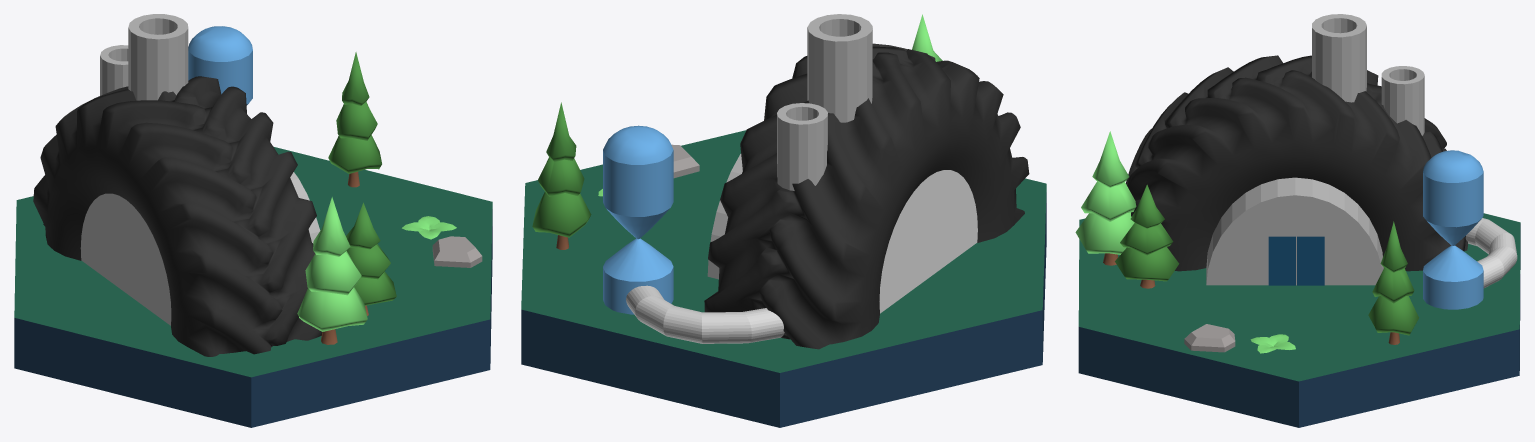
The model's file is Macro - transportation factory lv1 wm 1.fbx.
3 views of the same model, side by side, from view 1: azimuth 30°, elevation 25°; view 2: azimuth 150°, elevation 25°; view 3: azimuth 270°, elevation 25° (orthographic). The views are drawn at different scales.
Parts seen in each view (by area): view 1: Cylinder.154, Cylinder.003, Cylinder.006, Tree_Spruce_tiny_01.002, Cylinder.009, Tree_Spruce_tiny_01.004, Cylinder.004, Tree_Spruce_tiny_01.001, Rock Type4 04 mesh.001, Cylinder.008, Plane.003; view 2: Cylinder.154, Cylinder.003, Cylinder.004, Cylinder.006, Cylinder.009, Cube.005, Tree_Spruce_tiny_01.004, Cylinder.008, Cylinder.007, Rock Type4 04 mesh.001, Tree_Spruce_tiny_01.002; view 3: Cylinder.154, Cylinder.003, Cylinder.007, Cylinder.004, Tree_Spruce_tiny_01.002, Cylinder.009, Tree_Spruce_tiny_01.001, Tree_Spruce_tiny_01.004, Cylinder.008, Cube.005, Plane.002, Plane.001 (+2 smaller).
Part boxes in pixels (x1,y1,x2,y2): Cylinder.154: (14, 146, 492, 427); Cylinder.003: (33, 76, 322, 356); Cylinder.006: (80, 193, 171, 325); Tree_Spruce_tiny_01.002: (297, 197, 367, 344); Cylinder.009: (128, 14, 188, 100); Tree_Spruce_tiny_01.004: (328, 52, 381, 187); Cylinder.004: (188, 26, 252, 105); Tree_Spruce_tiny_01.001: (346, 202, 396, 315); Rock Type4 04 mesh.001: (432, 236, 482, 267); Cylinder.008: (100, 45, 128, 95); Plane.003: (402, 216, 456, 239); Cylinder.154: (521, 130, 1046, 427); Cylinder.003: (704, 43, 1029, 349); Cylinder.004: (603, 125, 673, 314); Cylinder.006: (879, 170, 977, 313); Cylinder.009: (807, 14, 872, 122); Cube.005: (626, 285, 784, 343); Tree_Spruce_tiny_01.004: (532, 102, 591, 249); Cylinder.008: (777, 103, 827, 190); Cylinder.007: (707, 154, 742, 279); Rock Type4 04 mesh.001: (671, 144, 699, 178); Tree_Spruce_tiny_01.002: (912, 14, 942, 61); Cylinder.154: (1078, 213, 1520, 427); Cylinder.003: (1126, 55, 1467, 271); Cylinder.007: (1206, 177, 1383, 285); Cylinder.004: (1423, 150, 1483, 309); Tree_Spruce_tiny_01.002: (1075, 131, 1136, 265); Cylinder.009: (1312, 14, 1366, 102); Tree_Spruce_tiny_01.001: (1115, 184, 1179, 288); Tree_Spruce_tiny_01.004: (1368, 221, 1418, 344); Cylinder.008: (1381, 66, 1424, 135); Cube.005: (1465, 218, 1517, 288); Plane.002: (1297, 236, 1324, 285); Plane.001: (1268, 236, 1295, 285).
Size of the model in its own units: 197 by 133 by 174.
